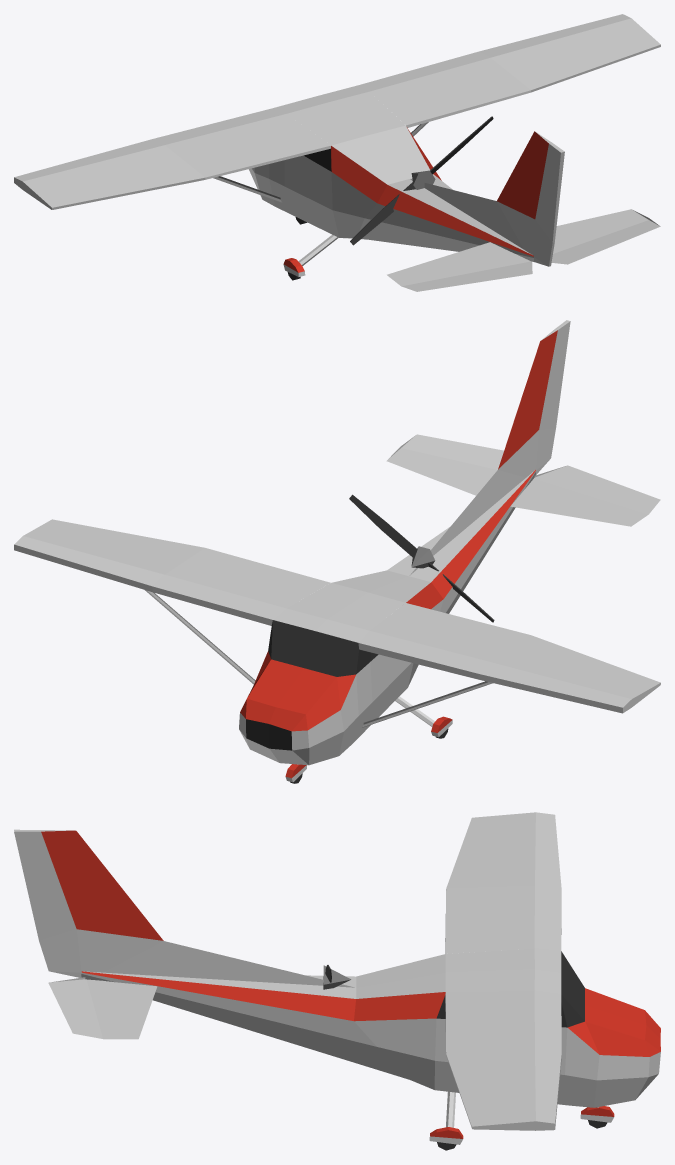
File: Small_Airplane.glb
The picture shows the model from 3 angles, top to bottom: view 1: azimuth 30°, elevation 25°; view 2: azimuth 150°, elevation 25°; view 3: azimuth 270°, elevation 25°; orthographic projection. The views are drawn at different scales.
Parts seen in each view (by area): view 1: Fuselage_Cube.003, Propeller_Cone; view 2: Fuselage_Cube.003, Propeller_Cone; view 3: Fuselage_Cube.003.
Boxes of the visible parts, <box> form: Fuselage_Cube.003: <box>14,14,660,291</box>; Propeller_Cone: <box>350,116,493,245</box>; Fuselage_Cube.003: <box>14,320,660,783</box>; Propeller_Cone: <box>349,494,494,622</box>; Fuselage_Cube.003: <box>14,812,660,1150</box>.
Bounding box in the file's own units: 362824 × 152905 × 305113.
